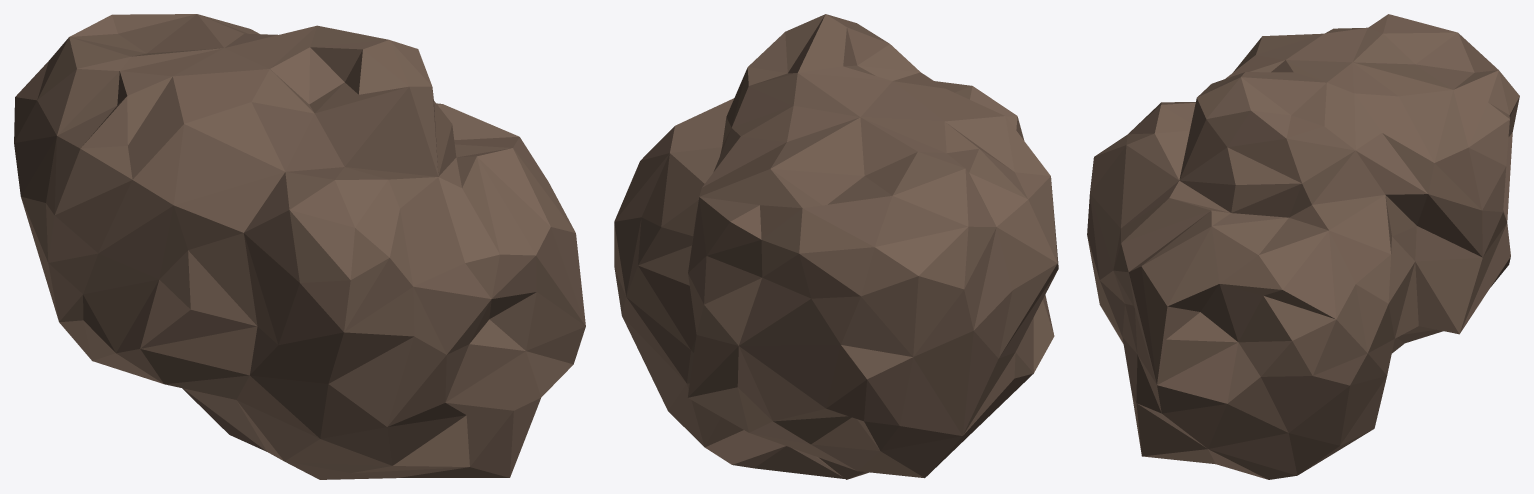
File: Comet_1.fbx
The picture shows the model from 3 angles, left to right: view 1: azimuth 30°, elevation 25°; view 2: azimuth 150°, elevation 25°; view 3: azimuth 270°, elevation 25°; orthographic projection. The views are drawn at different scales.
Parts seen in each view (by area): view 1: Group51794; view 2: Group51794; view 3: Group51794.
Part boxes in pixels (box(x1,y1,x2,y2)): Group51794: box(14, 14, 585, 479); Group51794: box(614, 14, 1058, 479); Group51794: box(1087, 14, 1519, 479).
Bounding box in the file's own units: 42.22 × 39.15 × 40.3.
